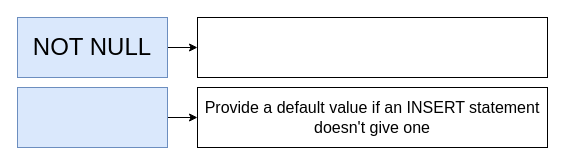
Image size: 565x165. Some labels were removed from this diagram. The centre of each missing label's shape, as x and y in pixels:
"A value must be provided (empty strings are values!)" goes at point 372,47.
"DEFAULT" goes at point 92,117.
